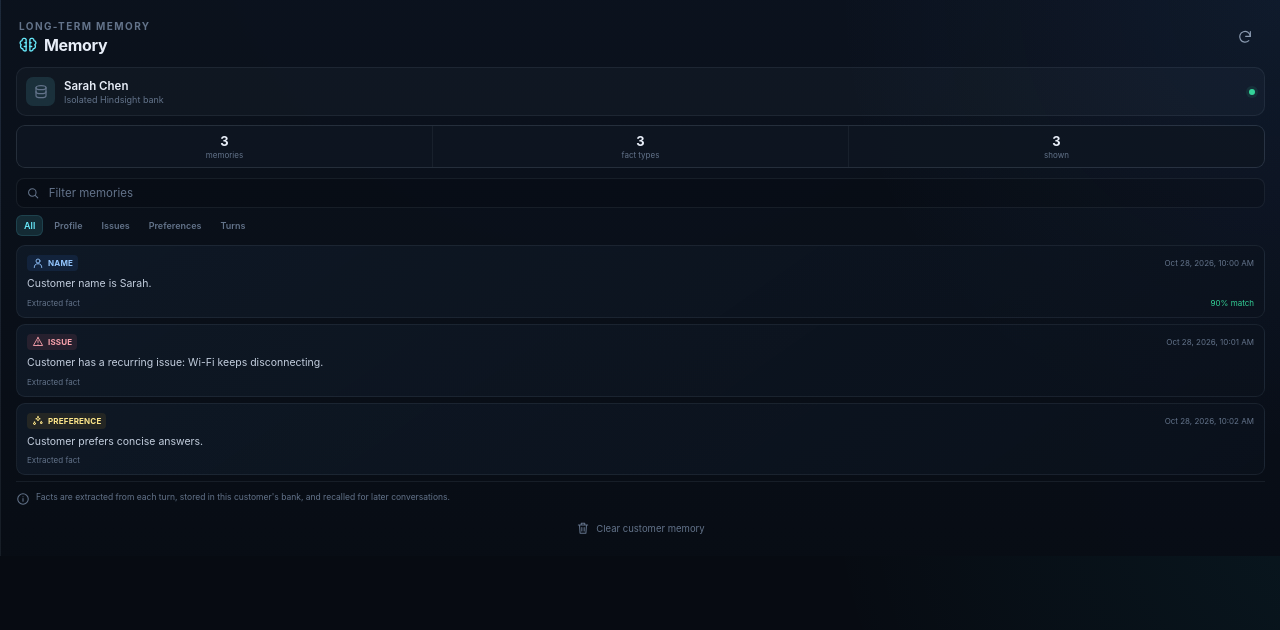
Scenario: MemoryPanel › searches memory text
The image size is (1280, 630).
Type "concise" into the search field labelled "Filter memories" at [651, 193], box [47,185,1255,201]
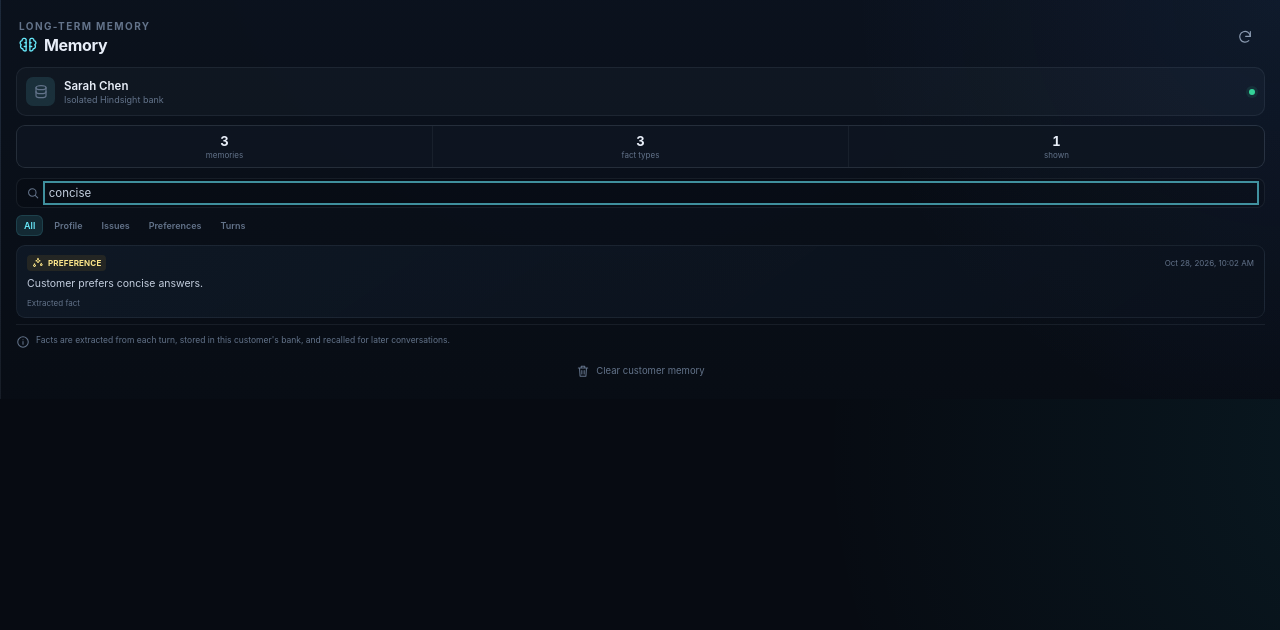
Check: the text "Customer prefers concise answers." is shown, box [27,277,203,290]
Check: the text "Customer name is Sarah." is gone
